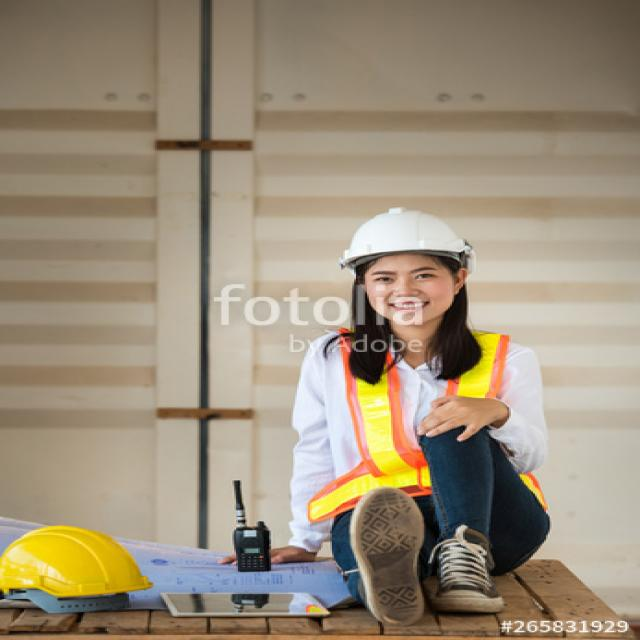Reflective-Jacket: (297, 329, 546, 522)
Safety-Helmet: (332, 201, 480, 273)
